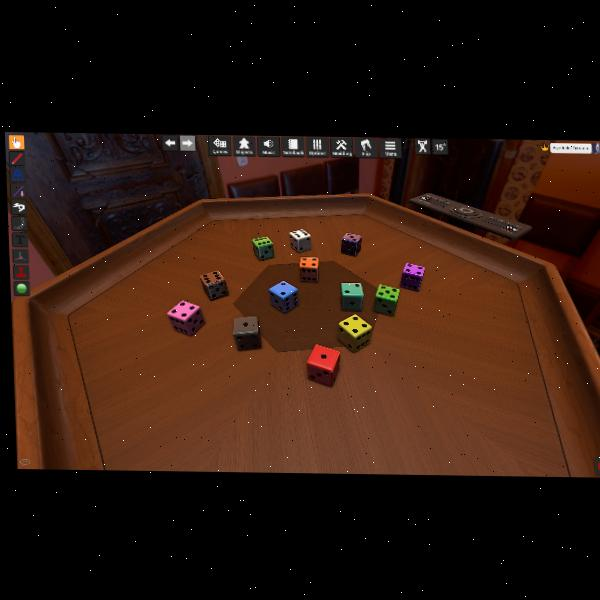d6: (167, 299, 206, 336), (305, 344, 340, 385), (337, 314, 371, 352), (233, 315, 261, 352), (269, 280, 299, 314), (200, 270, 228, 300), (373, 285, 399, 316), (340, 281, 364, 311), (399, 263, 422, 291), (288, 229, 311, 254), (251, 237, 274, 261), (340, 232, 361, 256), (299, 256, 319, 281)
